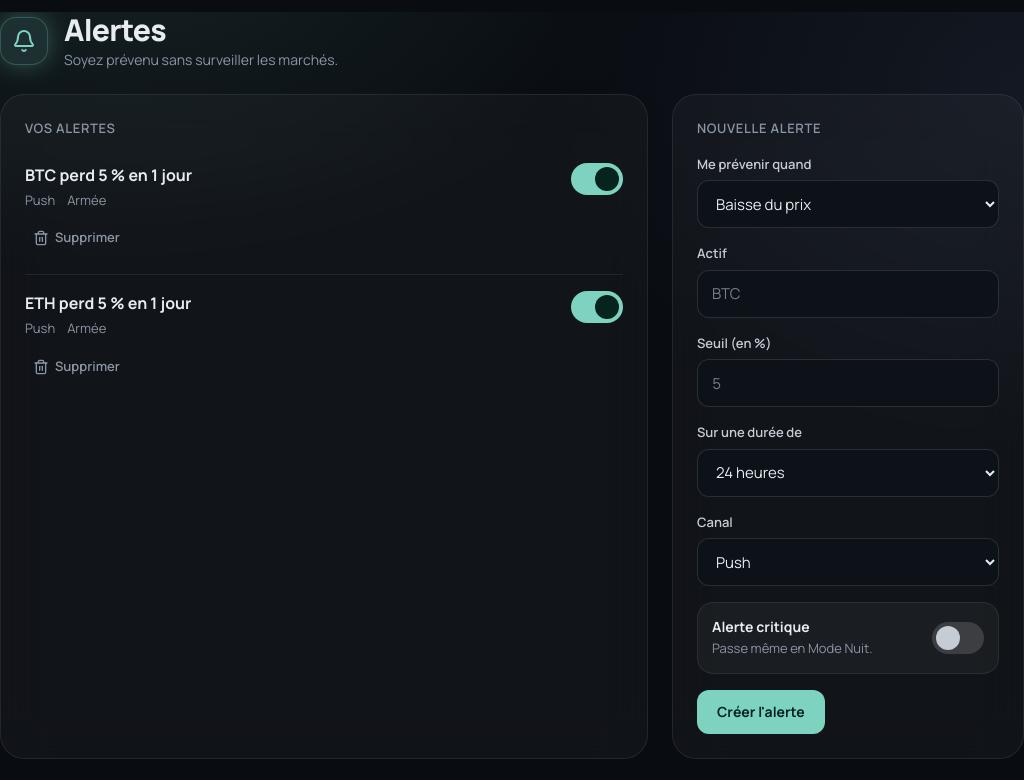
Test: AlertsPage : activer, mettre en pause, supprimer › suppression confirmée : l'alerte disparaît
Expected: the heading "Vos alertes" is shown, x1=25 y1=119 x2=116 y2=137
Click the button with aria-label "Supprimer l'alerte : BTC perd 5 %" at [76, 238], box x1=25 y1=218 x2=128 y2=258
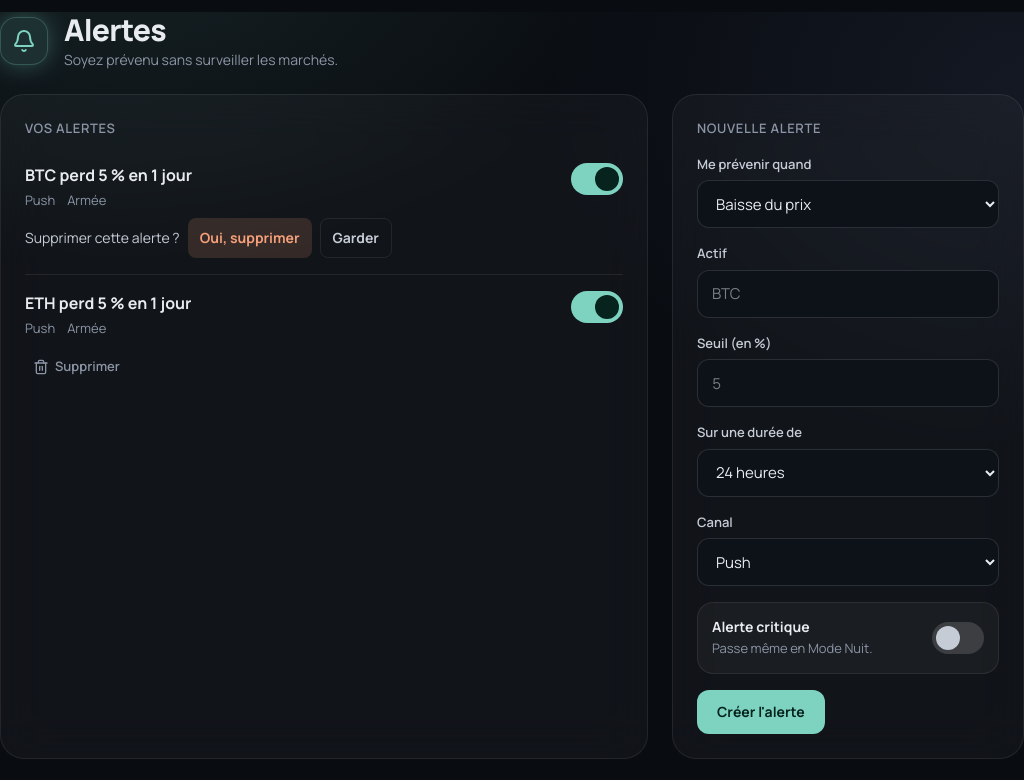
Click the button "Oui, supprimer" at [250, 238], box x1=188 y1=218 x2=312 y2=258
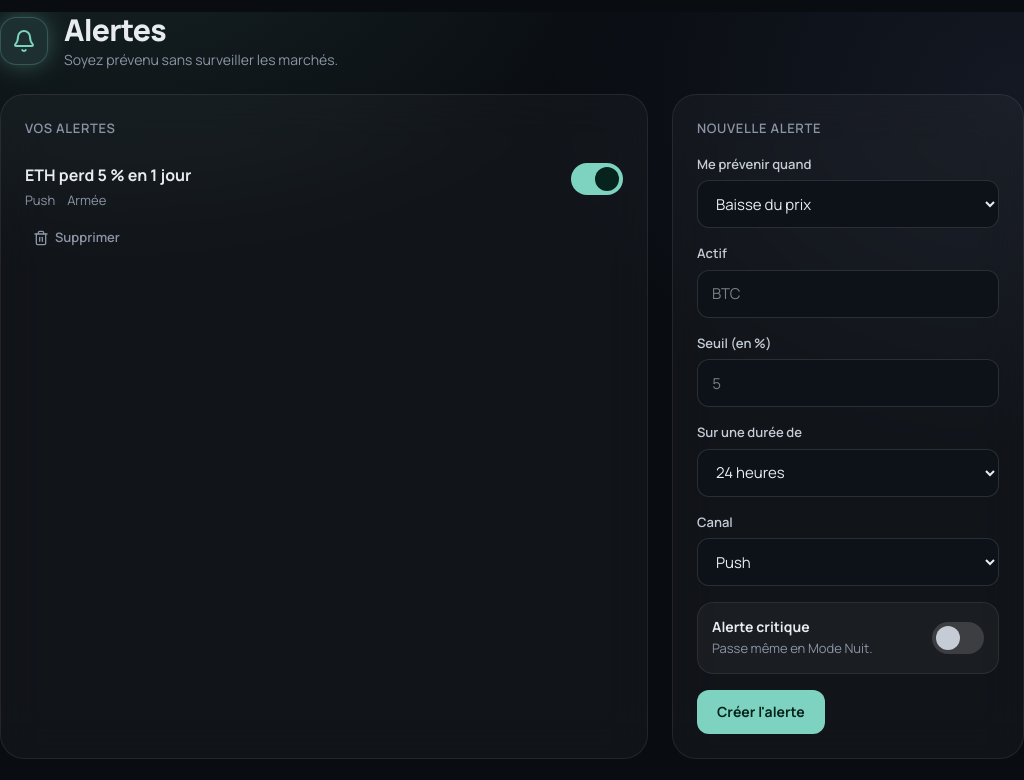
Expected: the text "ETH perd 5 % en 1 jour" is shown, x1=25 y1=162 x2=192 y2=186
Expected: the number of list items is 1, x1=25 y1=146 x2=623 y2=274
